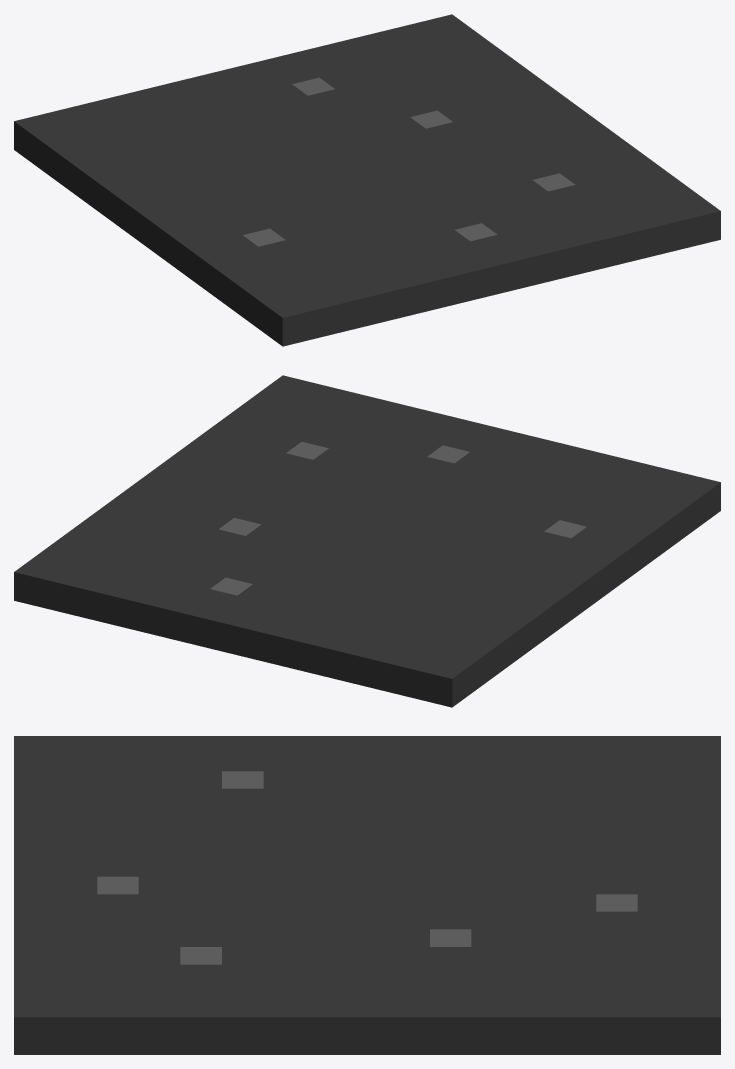
Rendered from empty.obj.
The picture shows the model from 3 angles, top to bottom: view 1: azimuth 30°, elevation 25°; view 2: azimuth 150°, elevation 25°; view 3: azimuth 270°, elevation 25°; orthographic projection. The views are drawn at different scales.
Parts seen in each view (by area): view 1: empty; view 2: empty; view 3: empty.
Part boxes in pixels (box(x1,y1,x2,y2)): empty: box(14, 14, 720, 346); empty: box(14, 375, 720, 707); empty: box(14, 736, 720, 1054).
Size of the model in its own units: 16 by 1 by 17.
1 material, 1 textured.
